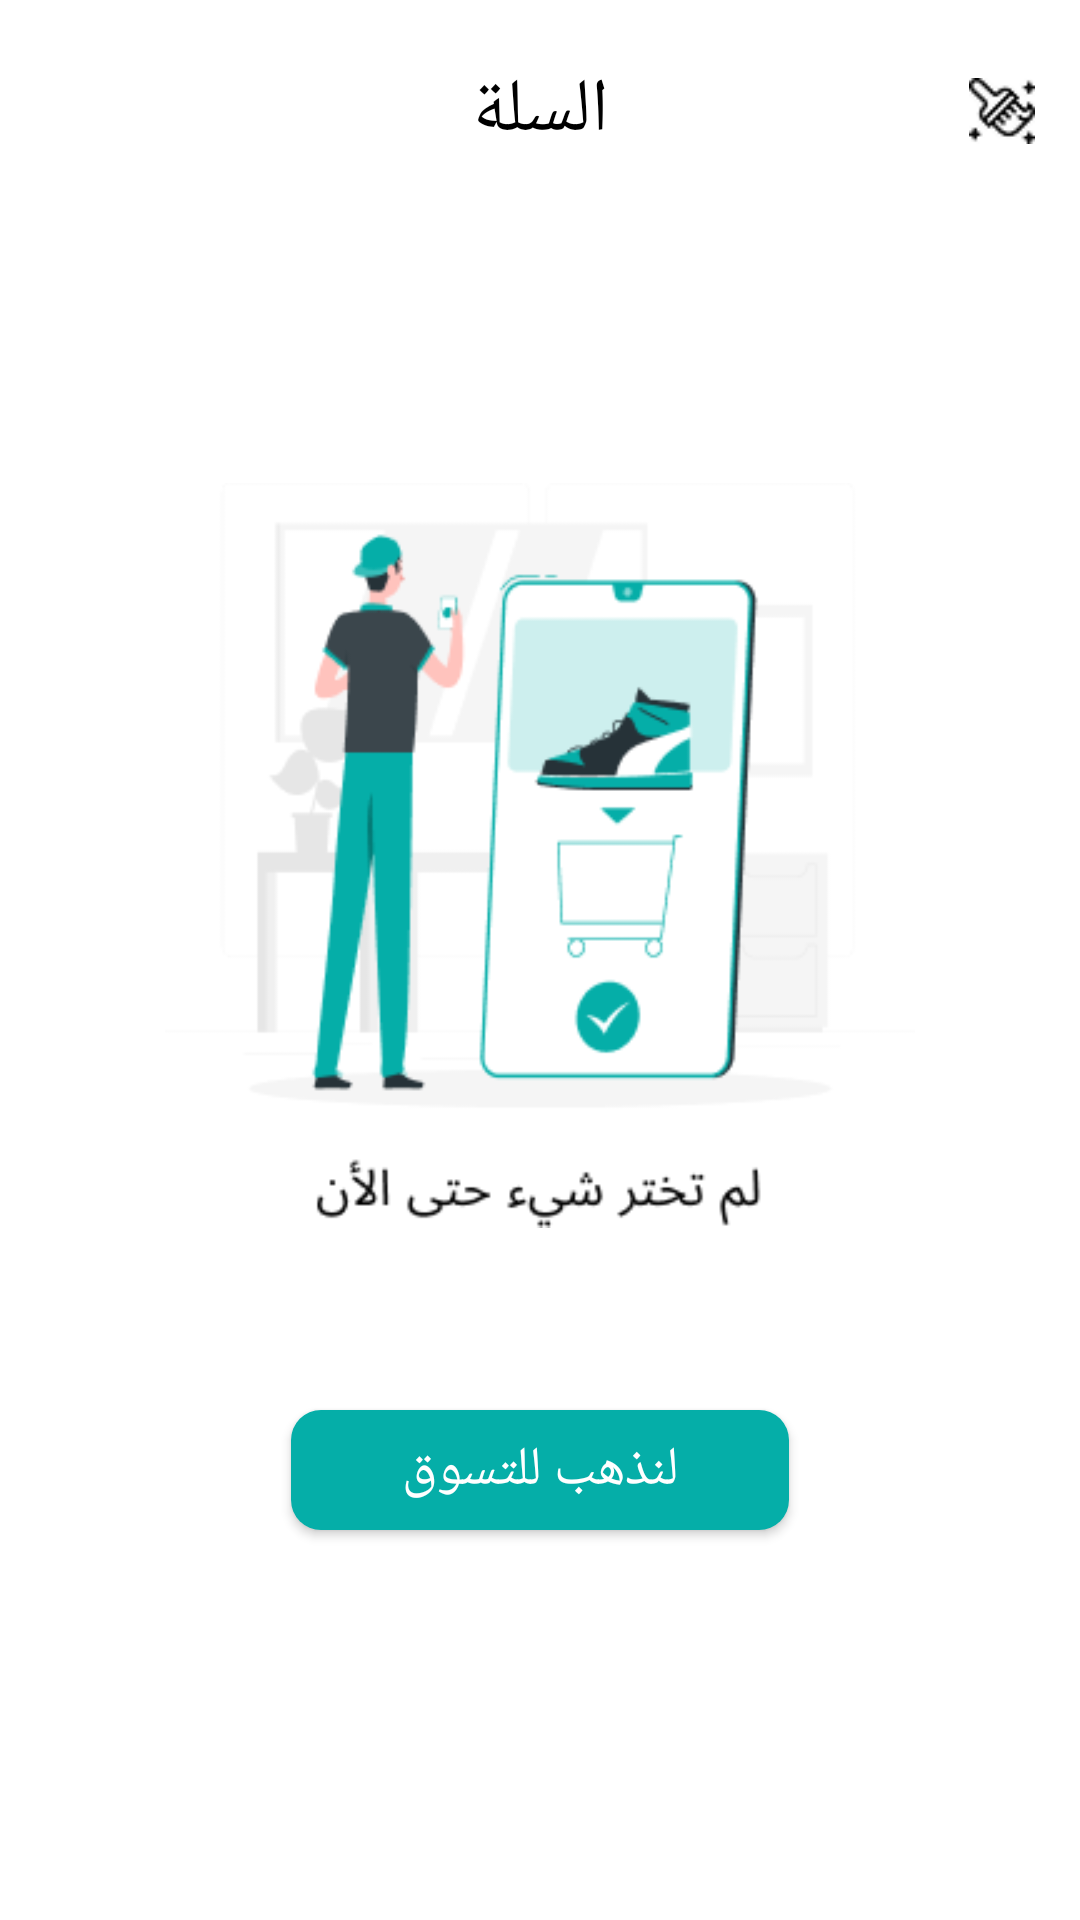

Icons on this 1080x1920 Android screen, each with its box as Rect(x1, y1, x2, y2):
clear: Rect(969, 78, 1035, 144)
